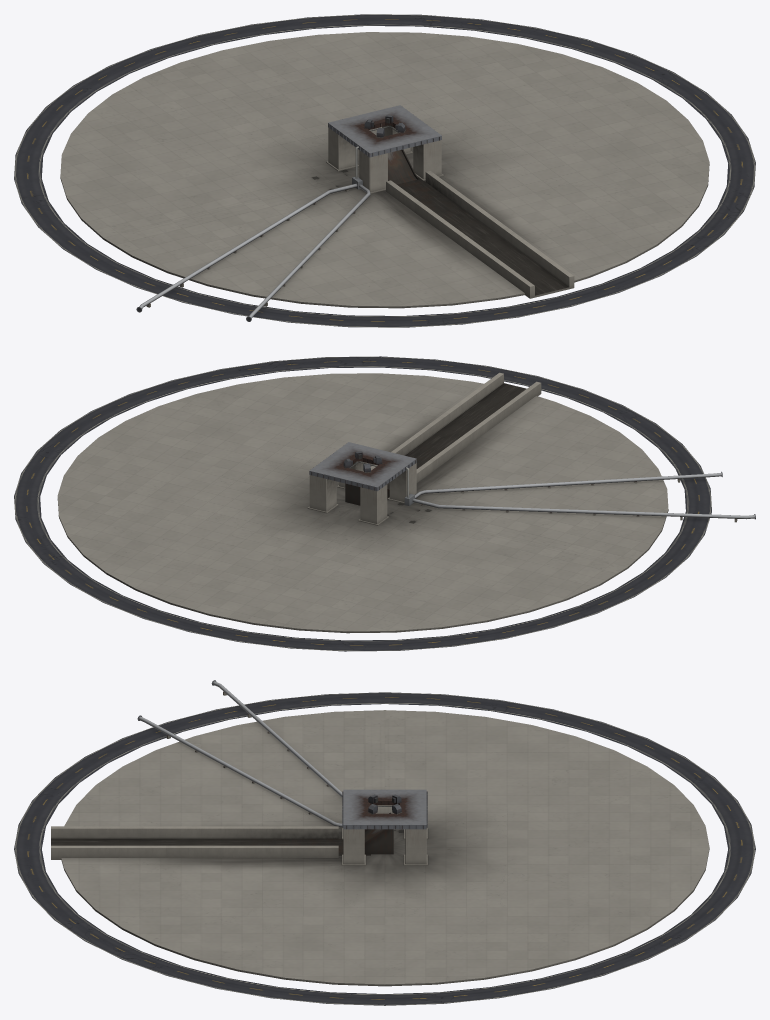
The model's file is PAD.fbx.
3 renders of one model, top to bottom at view 1: azimuth 30°, elevation 25°; view 2: azimuth 150°, elevation 25°; view 3: azimuth 270°, elevation 25°, orthographic. The views are drawn at different scales.
Visible parts, largest first — view 1: PAD_Apron, PAD_Apron_Asphalt, PAD_Apron_Centre, PAD_Trench, PAD_Mount, PAD_Lines, PAD_Deflector; view 2: PAD_Apron, PAD_Apron_Asphalt, PAD_Apron_Centre, PAD_Mount, PAD_Trench, PAD_Lines; view 3: PAD_Apron, PAD_Apron_Asphalt, PAD_Apron_Centre, PAD_Trench, PAD_Mount, PAD_Lines, PAD_Deflector.
Boxes of the visible parts, x1,y1,x2,y2 form: PAD_Apron: [60, 32, 709, 308]; PAD_Apron_Asphalt: [14, 14, 755, 327]; PAD_Apron_Centre: [253, 90, 587, 231]; PAD_Trench: [386, 171, 574, 298]; PAD_Mount: [326, 105, 443, 193]; PAD_Lines: [136, 183, 370, 321]; PAD_Deflector: [388, 149, 418, 184]; PAD_Apron: [57, 373, 668, 633]; PAD_Apron_Asphalt: [14, 356, 711, 651]; PAD_Apron_Centre: [173, 427, 486, 560]; PAD_Mount: [307, 442, 416, 525]; PAD_Trench: [370, 372, 541, 499]; PAD_Lines: [412, 471, 755, 522]; PAD_Apron: [61, 710, 709, 986]; PAD_Apron_Asphalt: [14, 692, 755, 1005]; PAD_Apron_Centre: [262, 812, 507, 916]; PAD_Trench: [51, 826, 370, 859]; PAD_Mount: [342, 789, 427, 865]; PAD_Lines: [137, 680, 342, 827]; PAD_Deflector: [364, 812, 393, 854].
Bounding box in the file's own units: 163 × 11.55 × 160.
8 materials, 8 textured.
